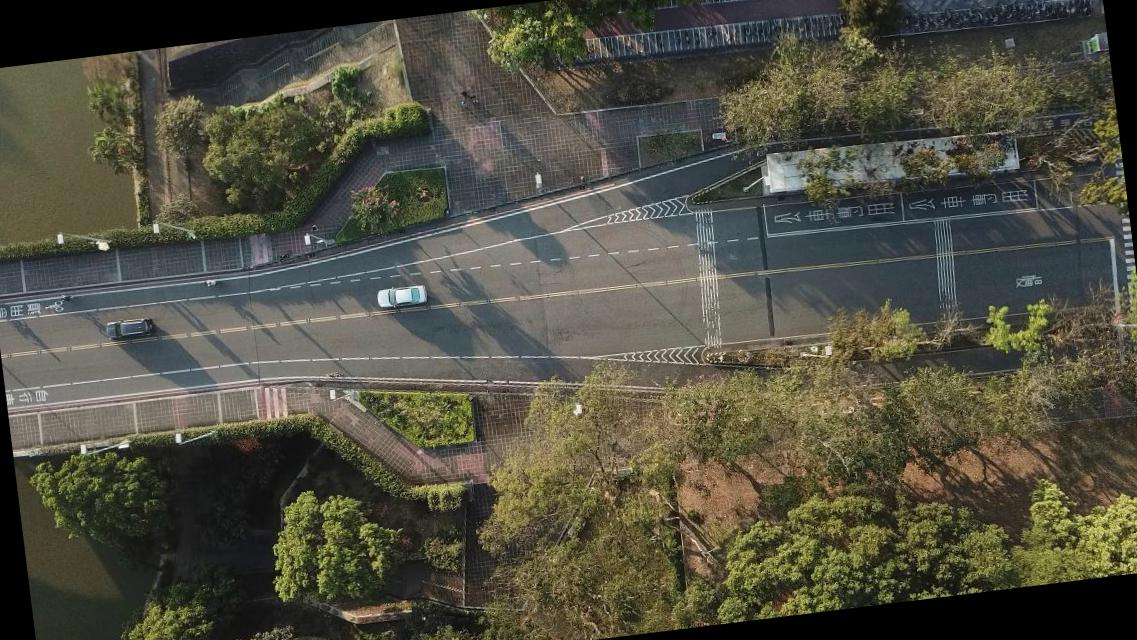vehicle: (374, 281, 427, 309), (104, 316, 154, 342)
